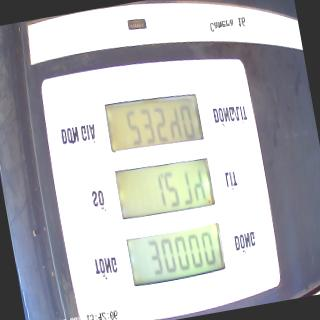screen: (100, 82, 230, 294)
